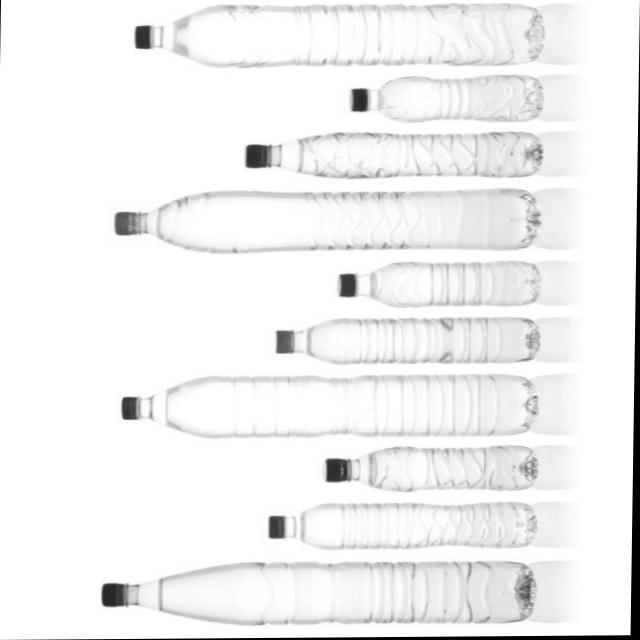bottle: (112, 187, 542, 257), (98, 561, 538, 627), (129, 2, 540, 72), (118, 374, 543, 439), (241, 129, 546, 181), (272, 316, 544, 367), (267, 502, 540, 550), (335, 260, 540, 310), (320, 446, 542, 492), (347, 73, 547, 124)
